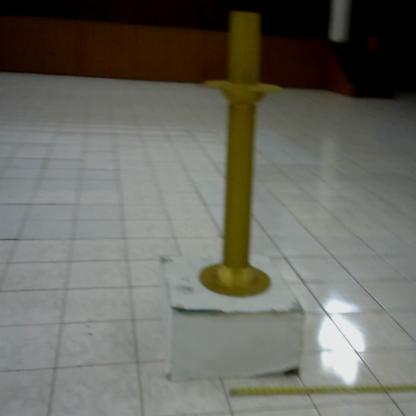pole: (199, 9, 278, 299)
